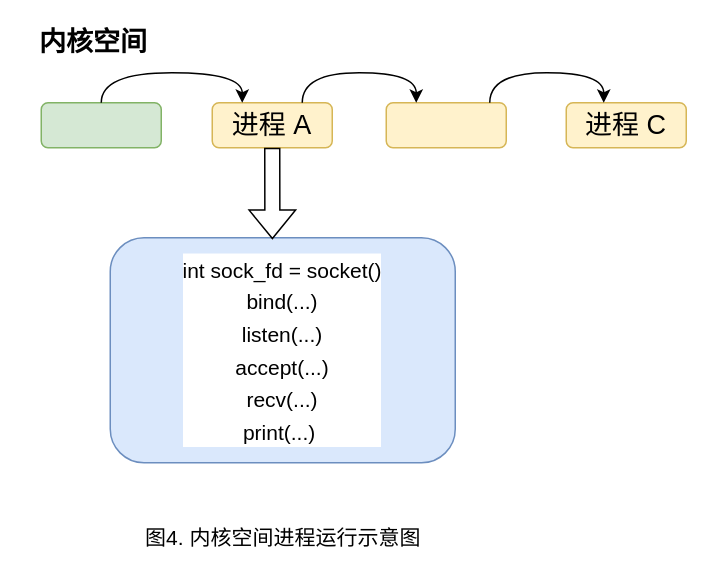
Image size: 713x585. Some labels were removed from this diagram. The shapes that lost their labels are listed below. From the top down, each one's box as (x1, y1, x2, y2) in pixels, then its label:
(40, 101, 161, 148): 工作队列
(385, 101, 506, 148): 进程 B
